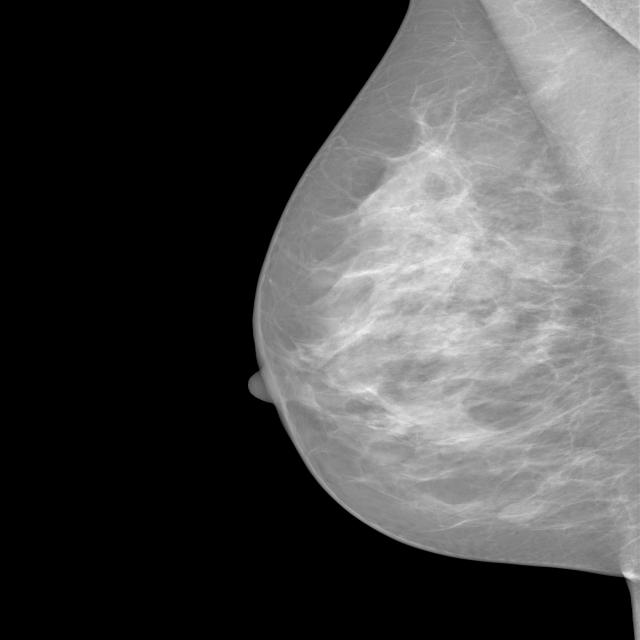Mass_1: (484, 488, 561, 536)
